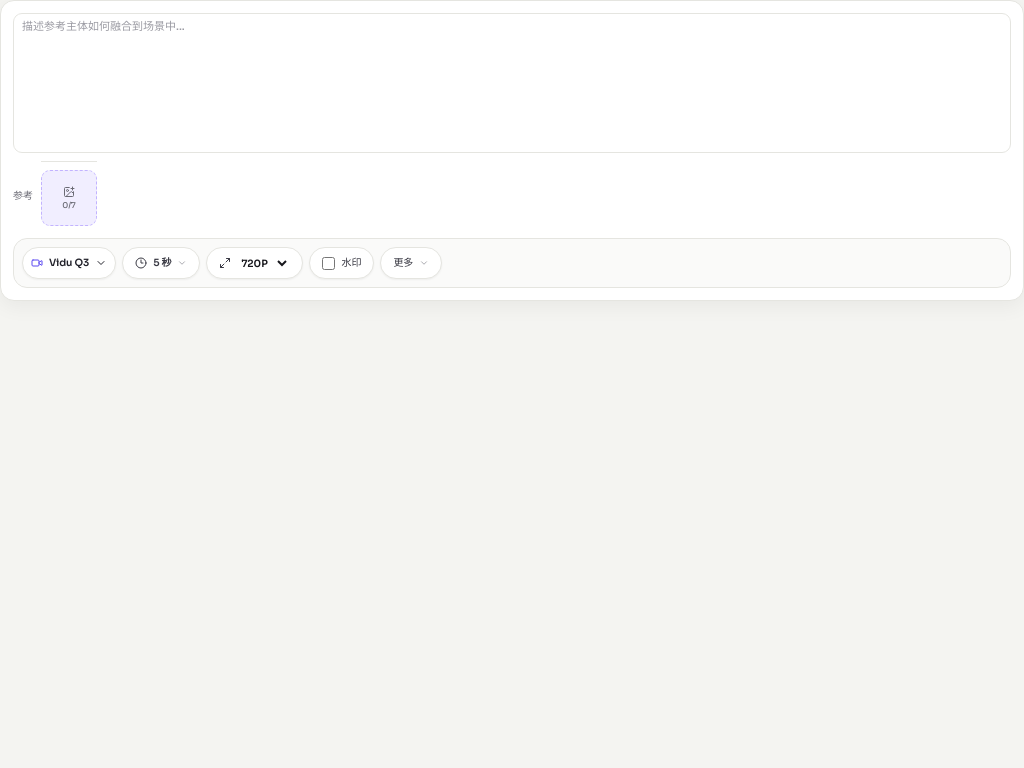
it: ViduCard 完整参数 › 显示 seed 输入
Click the button with aria-label "高级设置" at (411, 263), box [380,247,442,279]
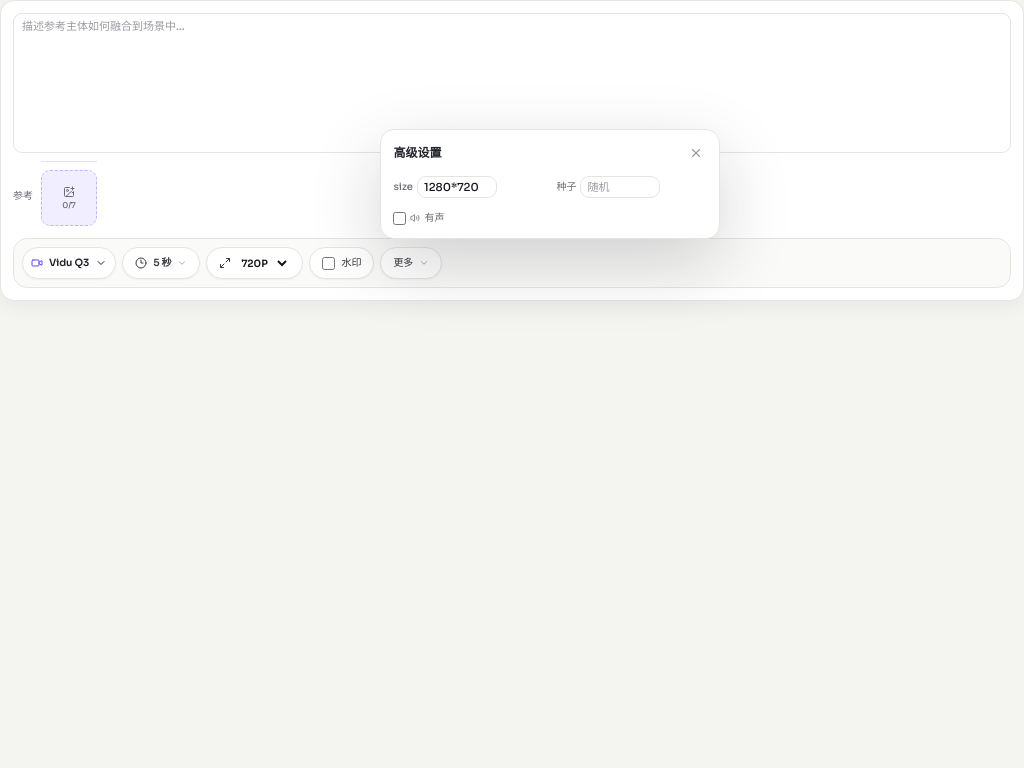
Expected: the number field labelled "种子" is shown, [580,176,660,198]
